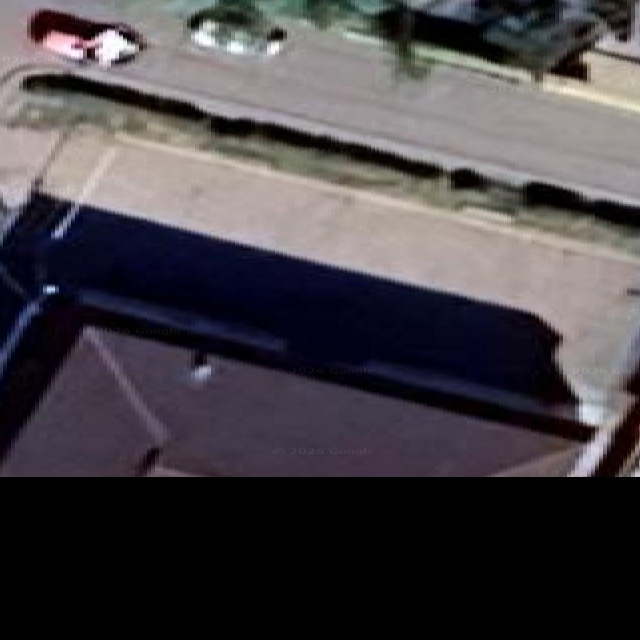car: (28, 9, 143, 65), (188, 7, 286, 55)
